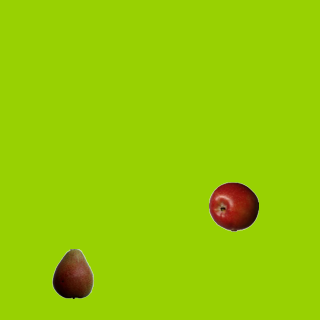Apple Braeburn: (208, 181, 258, 231)
Pear Forelle: (47, 248, 97, 298)
